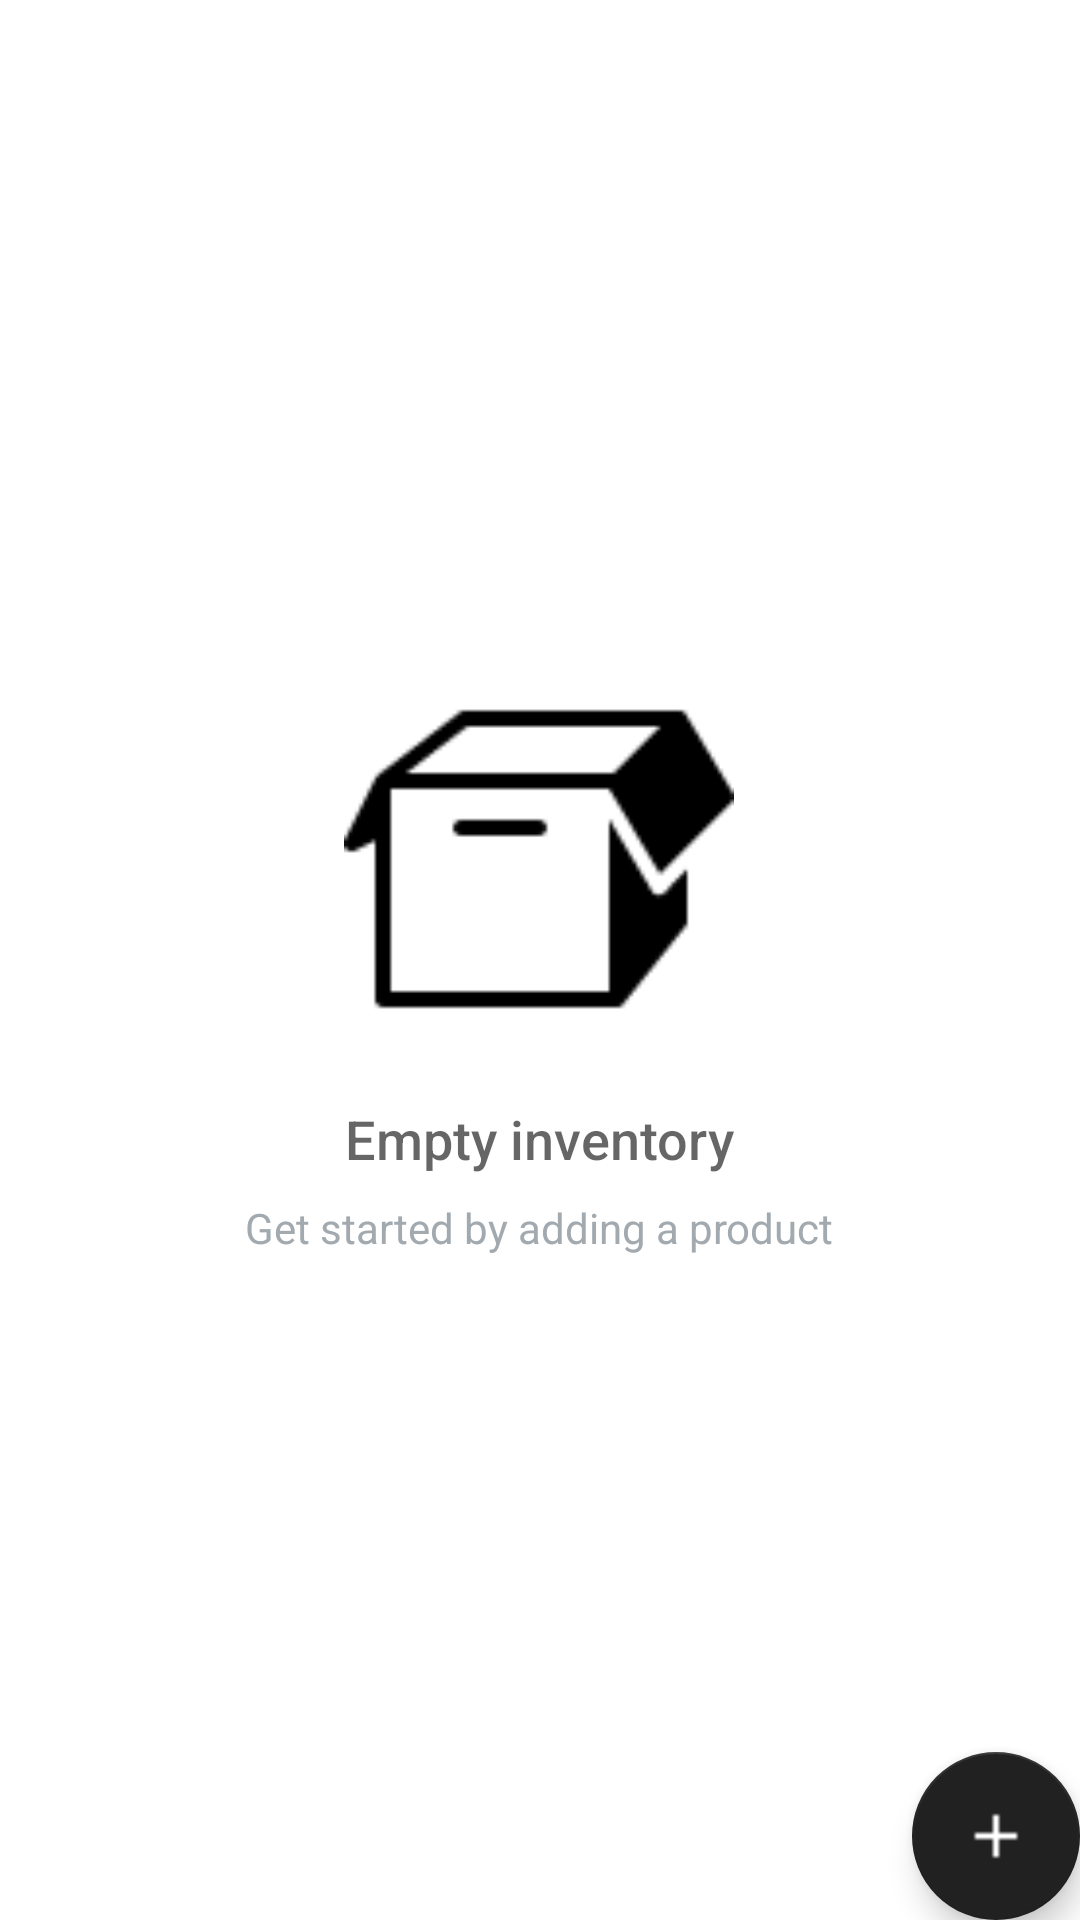

Point at icon controls on the screen. Image size 1080w x 1920h, points as [x,y].
plus: [996,1836]
